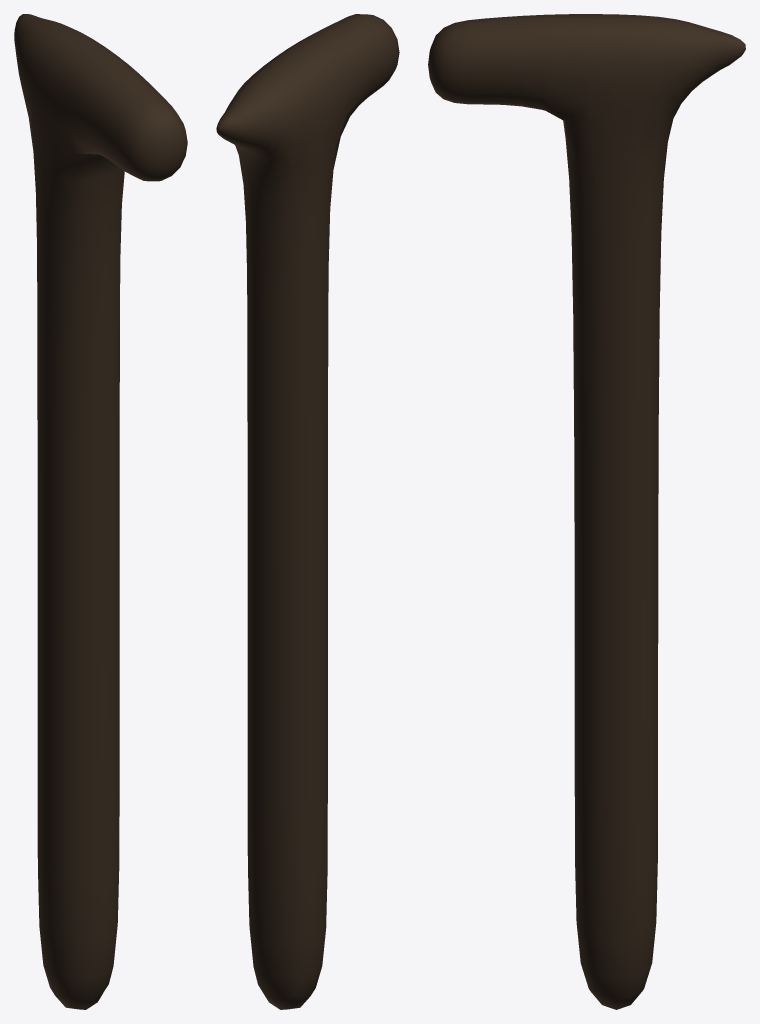
The model's file is Staff.fbx.
The picture shows the model from 3 angles, left to right: view 1: azimuth 30°, elevation 25°; view 2: azimuth 150°, elevation 25°; view 3: azimuth 270°, elevation 25°; orthographic projection. The views are drawn at different scales.
Parts seen in each view (by area): view 1: Circle; view 2: Circle; view 3: Circle.
Boxes of the visible parts, x1=… form: Circle: x1=14, y1=14, x2=187, y2=1009; Circle: x1=216, y1=14, x2=399, y2=1009; Circle: x1=428, y1=14, x2=745, y2=1009.
Size of the model in its own units: 7.69 by 96.53 by 28.08.
